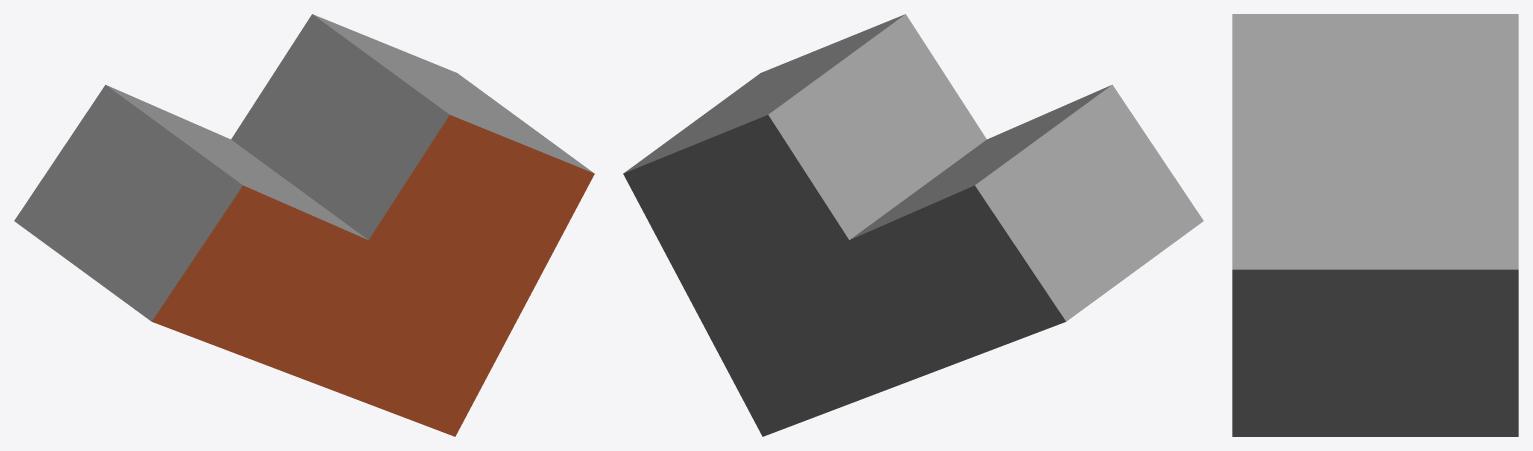
The model's file is construction_2750_assumed_A_Casa_h6m.obj.
The picture shows the model from 3 angles, left to right: view 1: azimuth 30°, elevation 25°; view 2: azimuth 150°, elevation 25°; view 3: azimuth 270°, elevation 25°; orthographic projection. The views are drawn at different scales.
Parts seen in each view (by area): view 1: construction_2750_assumed_A_Casa; view 2: construction_2750_assumed_A_Casa; view 3: construction_2750_assumed_A_Casa.
Boxes of the visible parts, x1,y1,x2,y2 form: construction_2750_assumed_A_Casa: (14, 14, 594, 436); construction_2750_assumed_A_Casa: (623, 14, 1203, 436); construction_2750_assumed_A_Casa: (1232, 14, 1518, 436).
Size of the model in its own units: 11.16 by 7.78 by 6.
